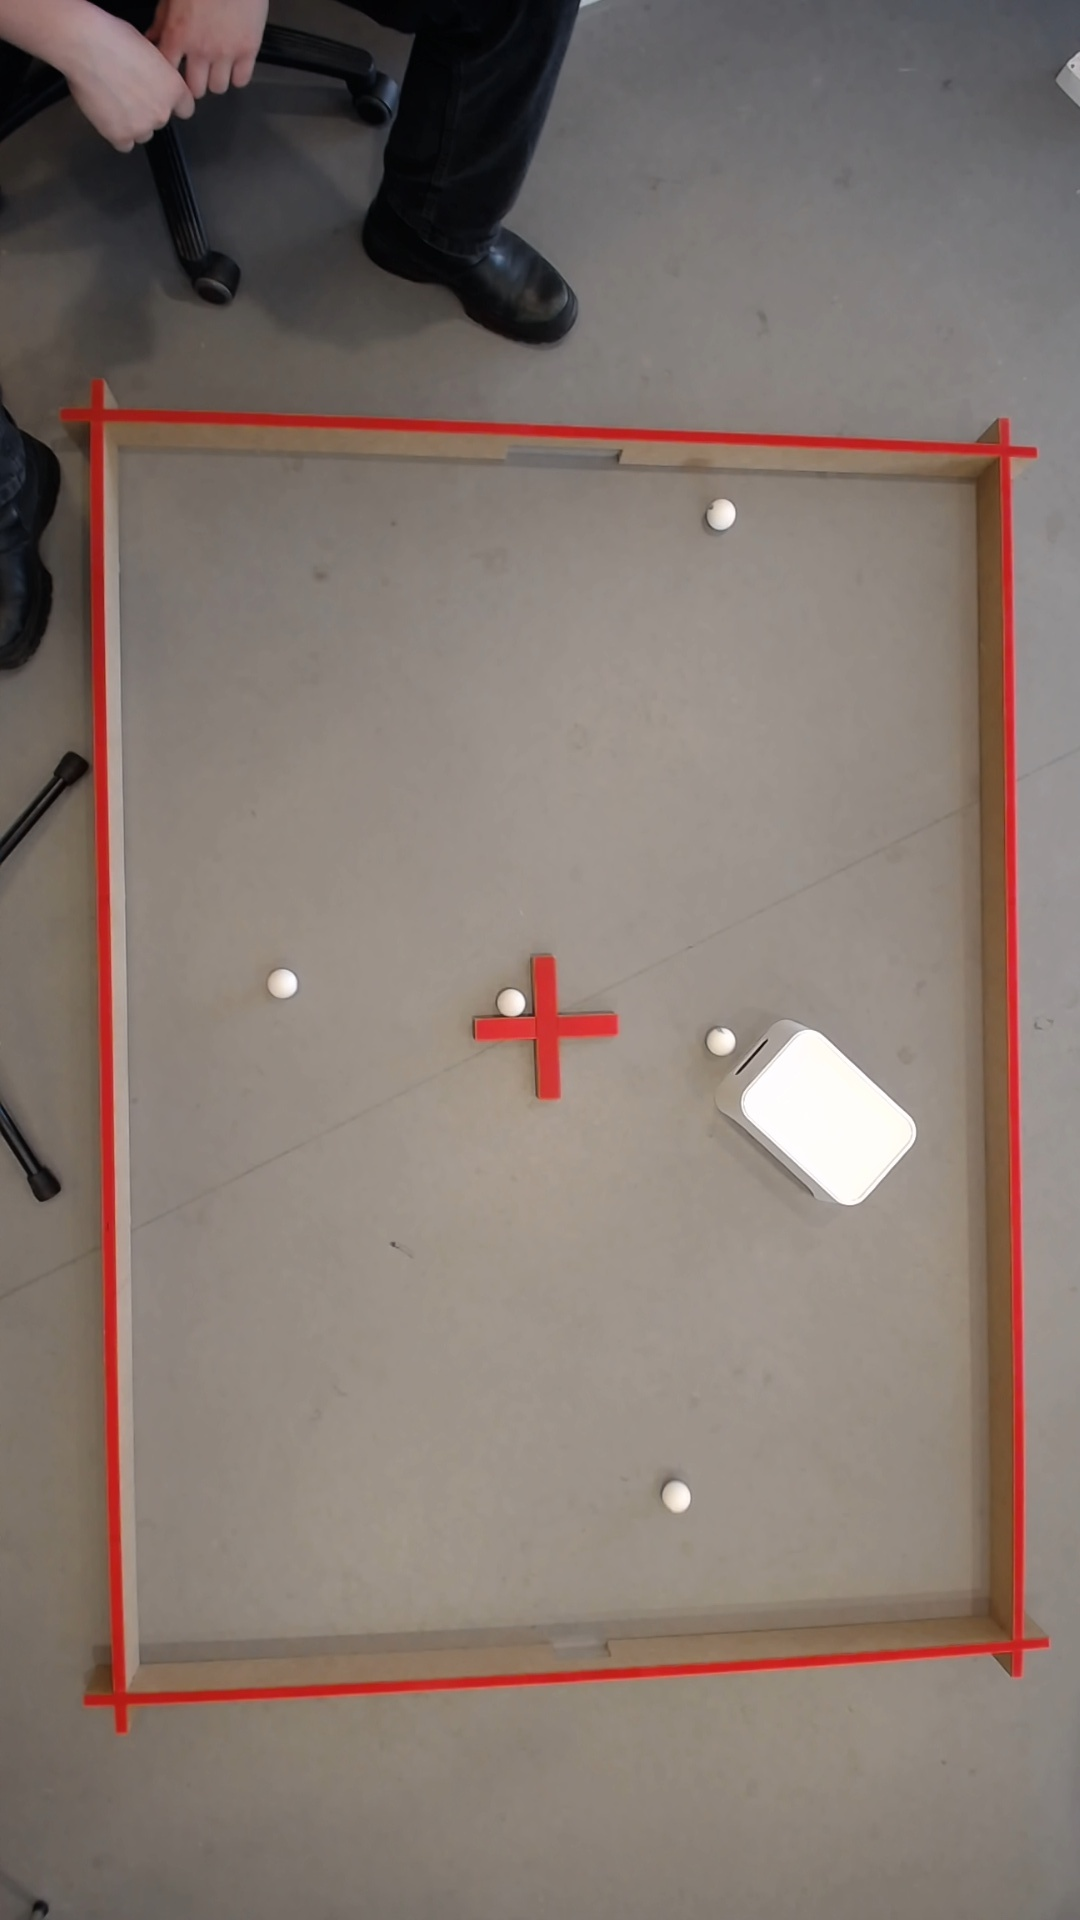balls: (729, 1019, 927, 1215), (662, 1480, 695, 1514), (708, 497, 738, 531), (270, 967, 301, 998), (498, 986, 527, 1018)
car: (708, 1025, 738, 1055)
